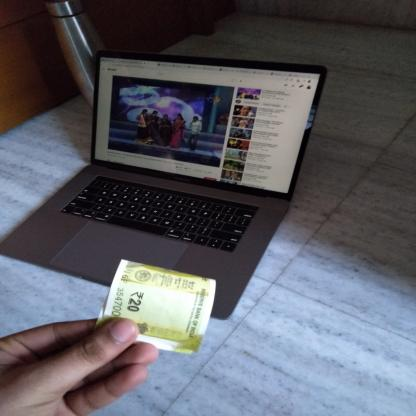New20Front: (105, 260, 214, 354)
